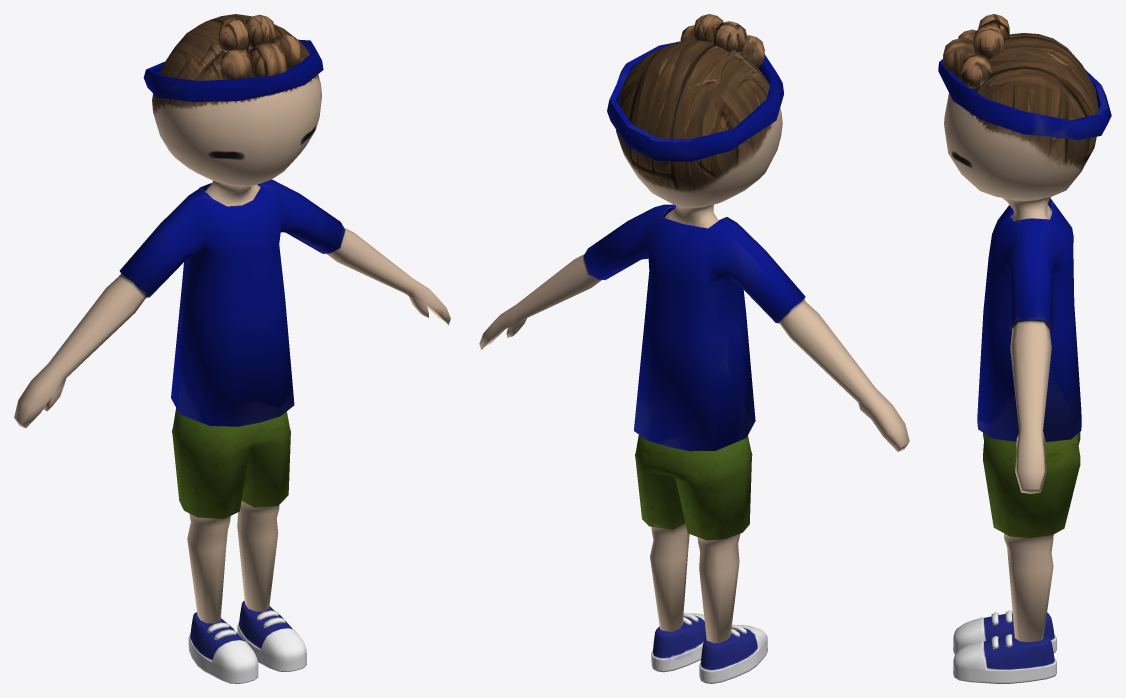
3 views of the same model, side by side, from view 1: azimuth 30°, elevation 25°; view 2: azimuth 150°, elevation 25°; view 3: azimuth 270°, elevation 25° (orthographic).
Parts seen in each view (by area): view 1: tulow, nogi, glowa, group, opaska, pSphere1, pSphere5, pSphere2, pSphere4; view 2: tulow, glowa, nogi, opaska, group, pSphere5; view 3: tulow, glowa, nogi, group, opaska, pSphere4, pSphere1, pSphere3, pSphere5.
Part boxes in pixels (left/top/right/bottom): tulow: left=14, top=179, right=450, bottom=428; nogi: left=172, top=408, right=290, bottom=623; glowa: left=152, top=14, right=321, bottom=206; group: left=188, top=601, right=306, bottom=683; opaska: left=143, top=39, right=323, bottom=101; pSphere1: left=249, top=42, right=286, bottom=77; pSphere5: left=218, top=18, right=250, bottom=51; pSphere2: left=220, top=48, right=252, bottom=79; pSphere4: left=245, top=14, right=275, bottom=47; tulow: left=479, top=204, right=909, bottom=451; glowa: left=616, top=39, right=782, bottom=228; nogi: left=635, top=435, right=752, bottom=643; opaska: left=607, top=42, right=783, bottom=161; group: left=651, top=612, right=767, bottom=683; pSphere5: left=714, top=21, right=744, bottom=53; tulow: left=977, top=198, right=1081, bottom=493; glowa: left=944, top=33, right=1098, bottom=221; nogi: left=983, top=432, right=1080, bottom=642; group: left=953, top=610, right=1056, bottom=683; opaska: left=938, top=59, right=1111, bottom=139; pSphere4: left=973, top=25, right=1004, bottom=58; pSphere1: left=943, top=38, right=975, bottom=80; pSphere3: left=961, top=54, right=991, bottom=88; pSphere5: left=978, top=14, right=1009, bottom=39.
Size of the model in its own units: 5.52 by 7.91 by 1.95.
